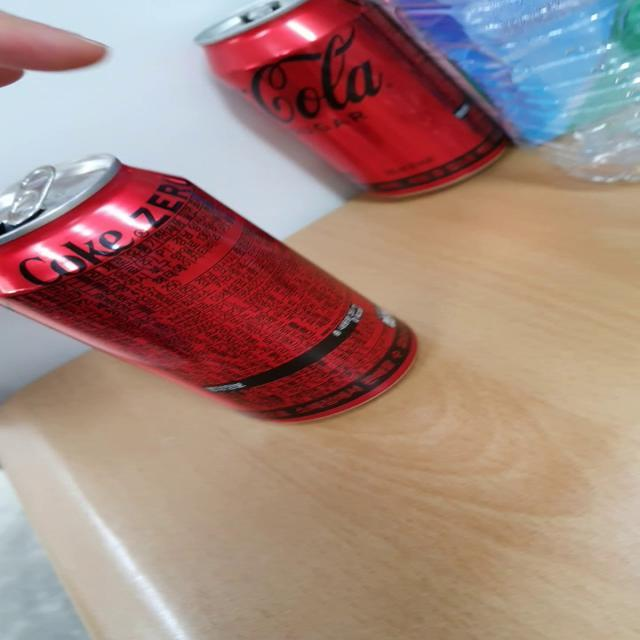coca-cola: (0, 149, 440, 431), (166, 0, 526, 210)
